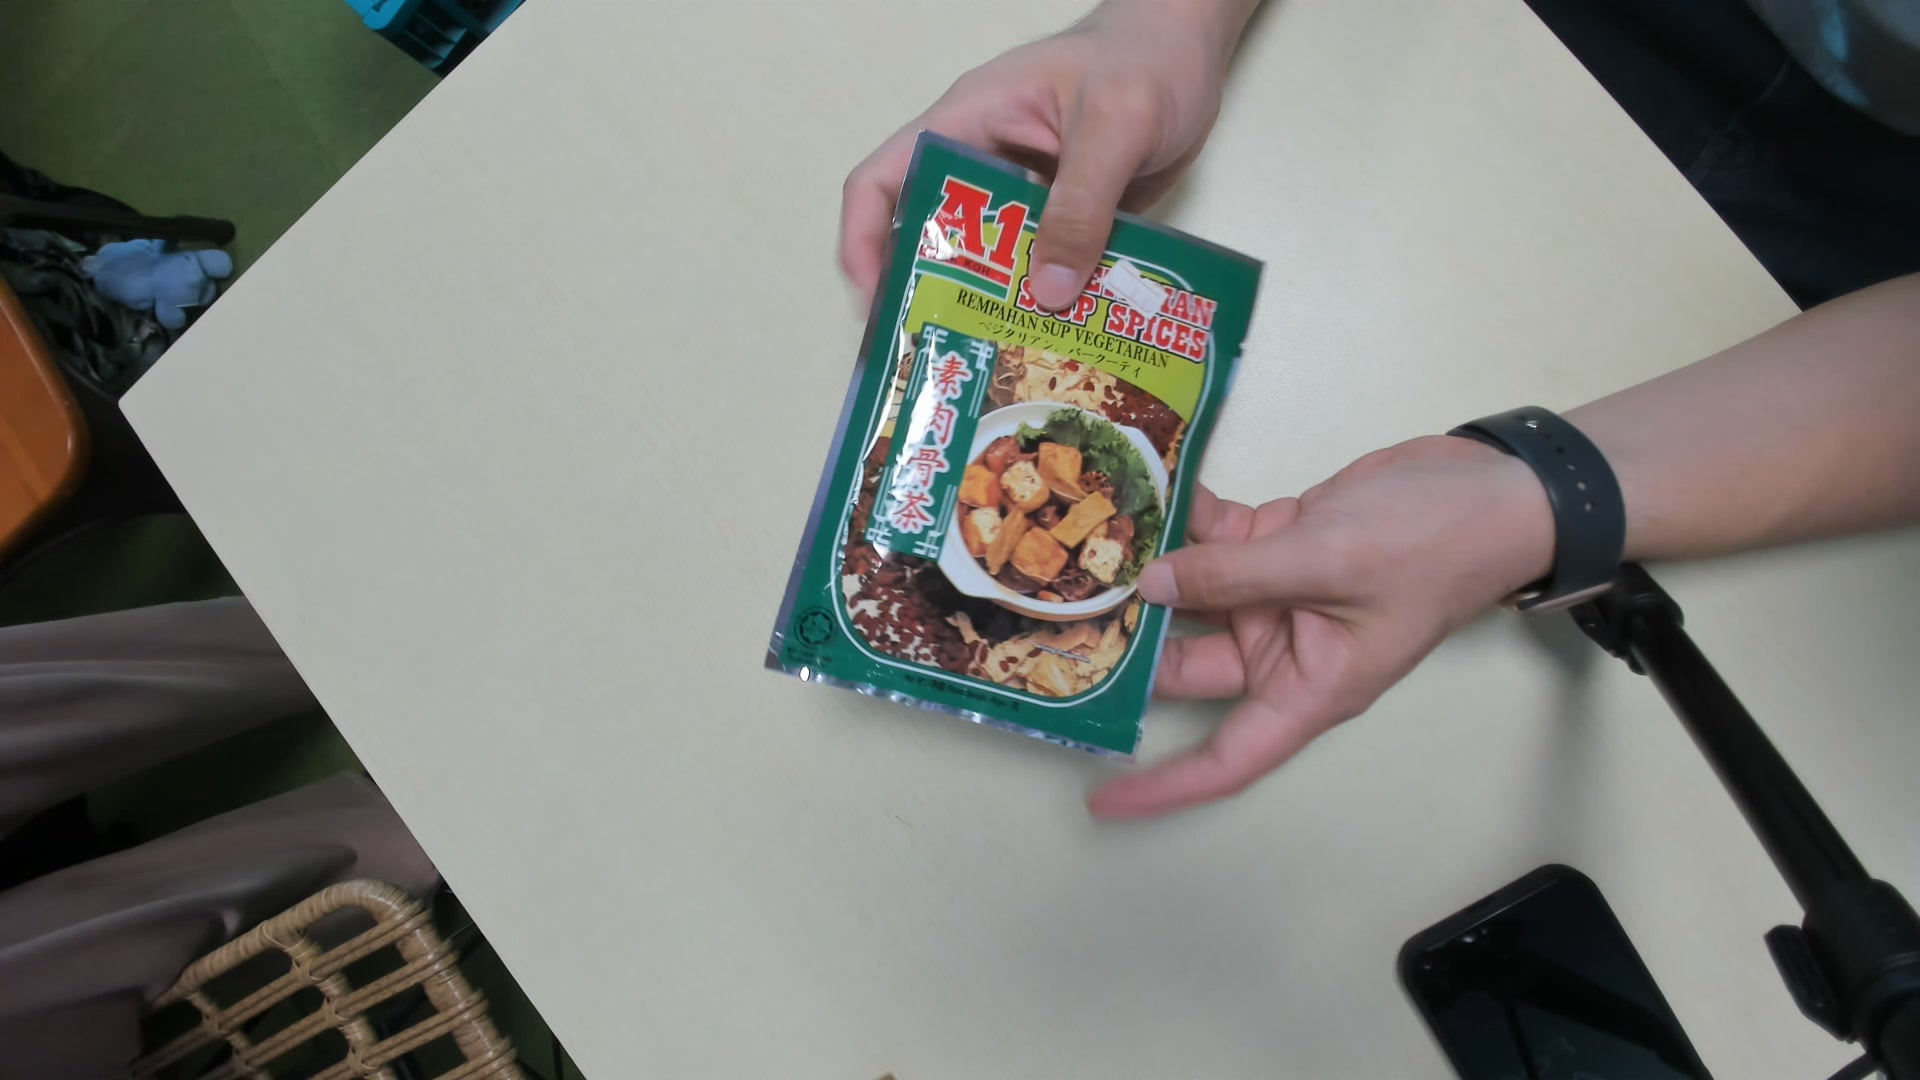OtherSauceDressing_0-99g_NonHalal_NonHealthy: (760, 141, 1265, 775)
